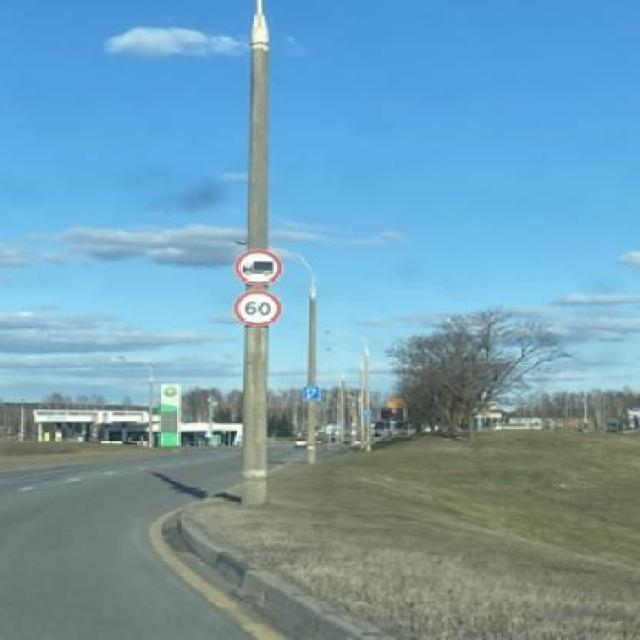forb_speed_over_60: (235, 288, 280, 327)
